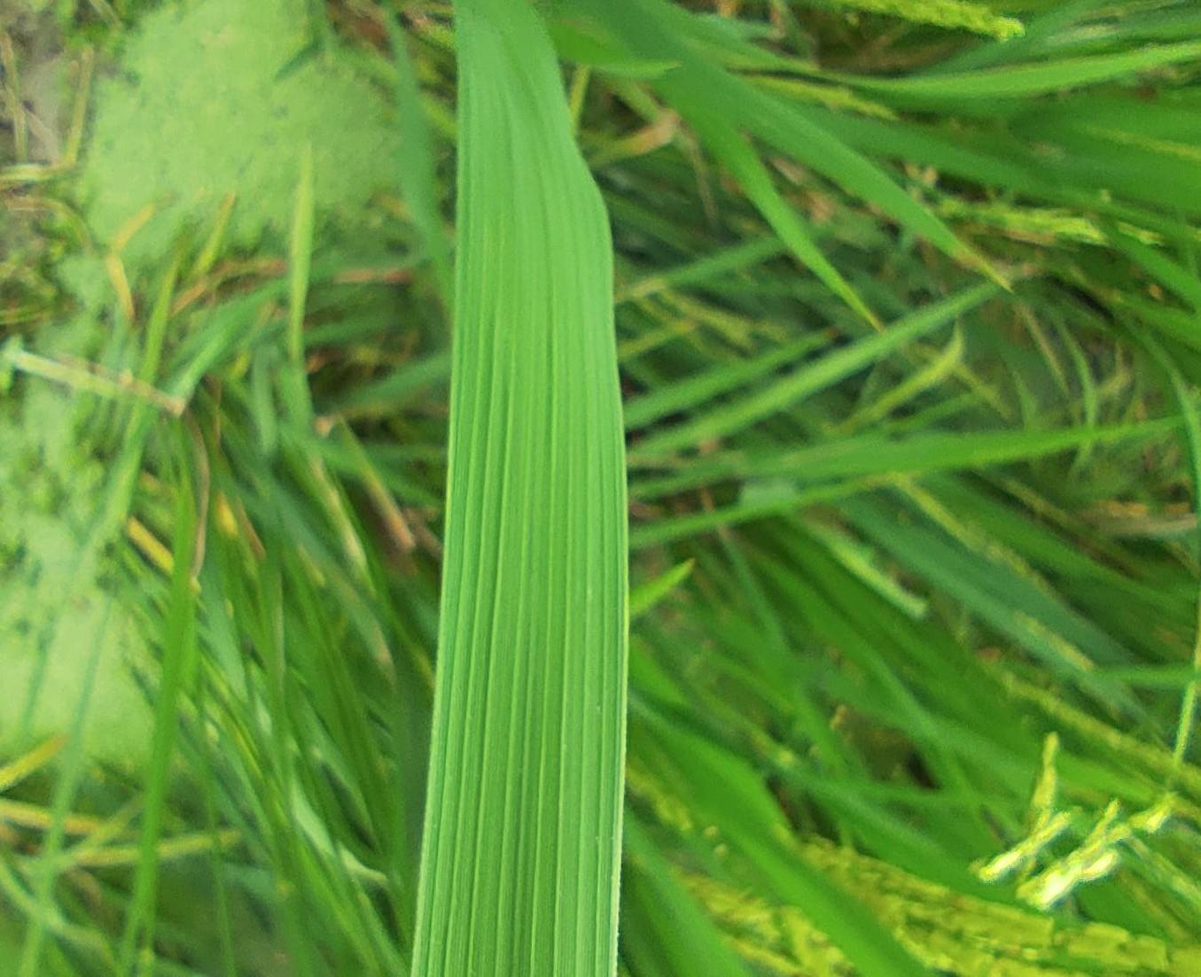Healthy: (411, 0, 628, 976)
